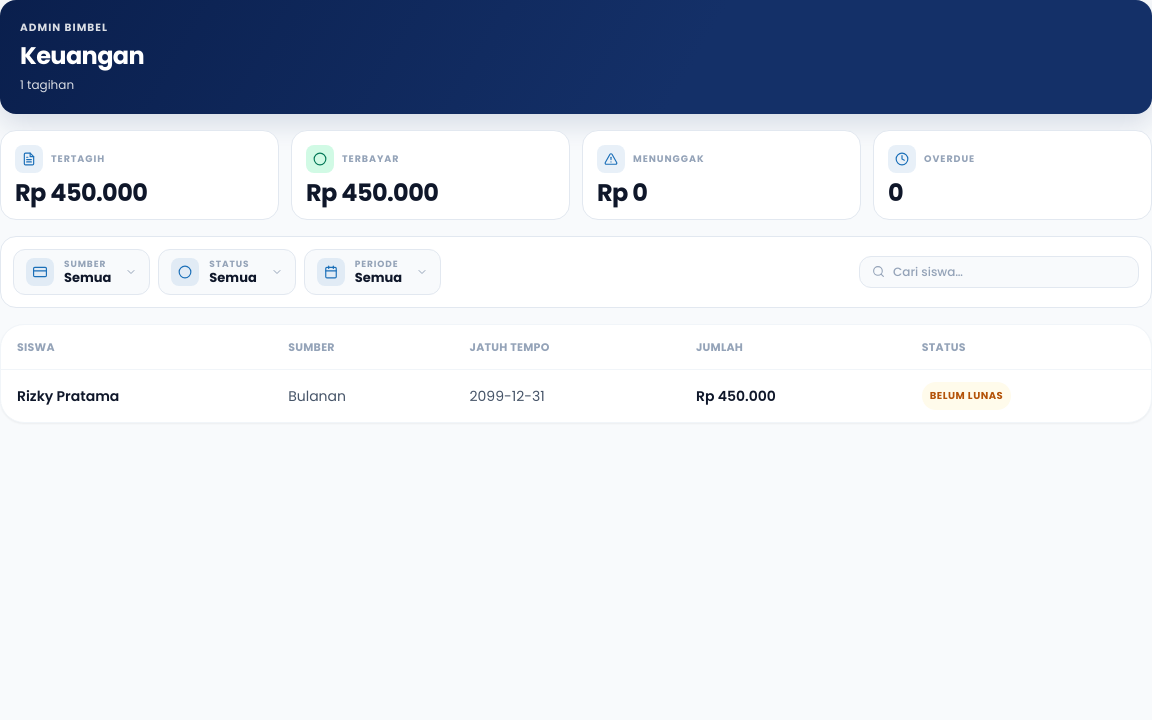
Test case: the control tracks the state the bill is actually in › is HIDDEN on a bill that is not paid
The width and height of the screenshot is (1152, 720).
Click the button with test id "bill-row" at (68, 396), box [1,369,1151,422]
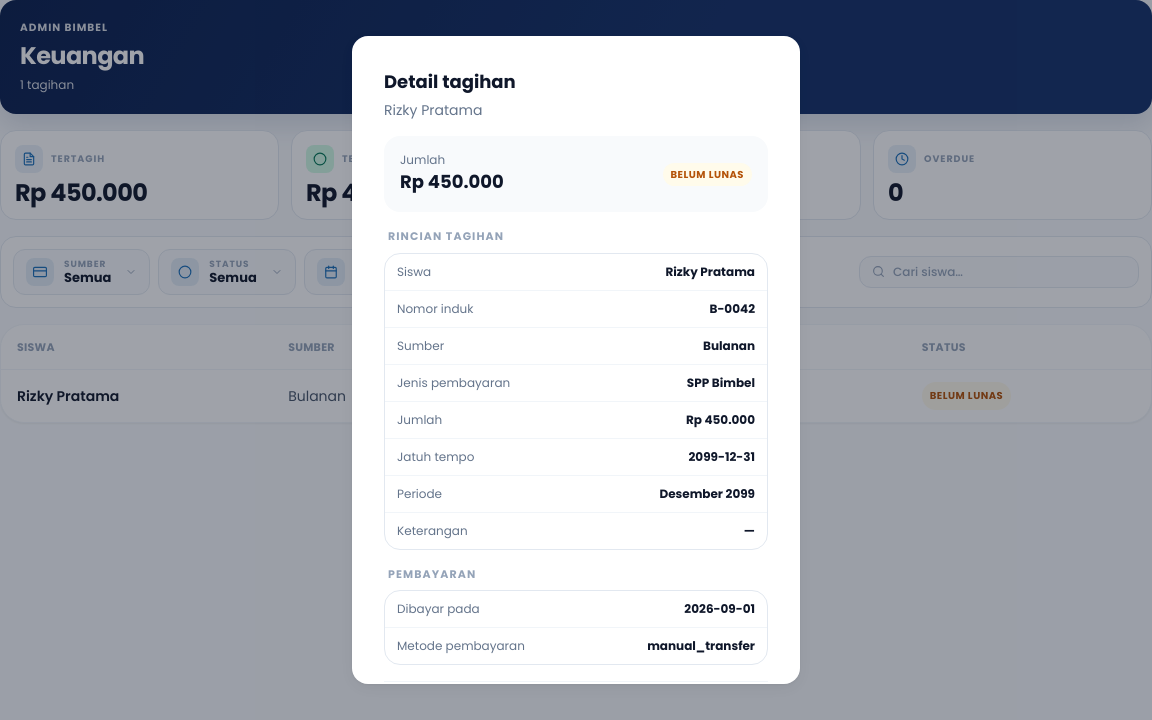
Check: the dialog with test id "bill-detail" is shown, box [352,36,800,684]
